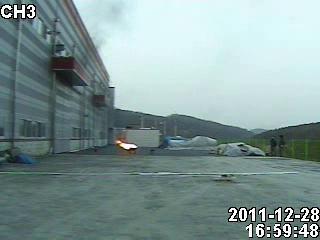fire: (114, 137, 139, 153)
